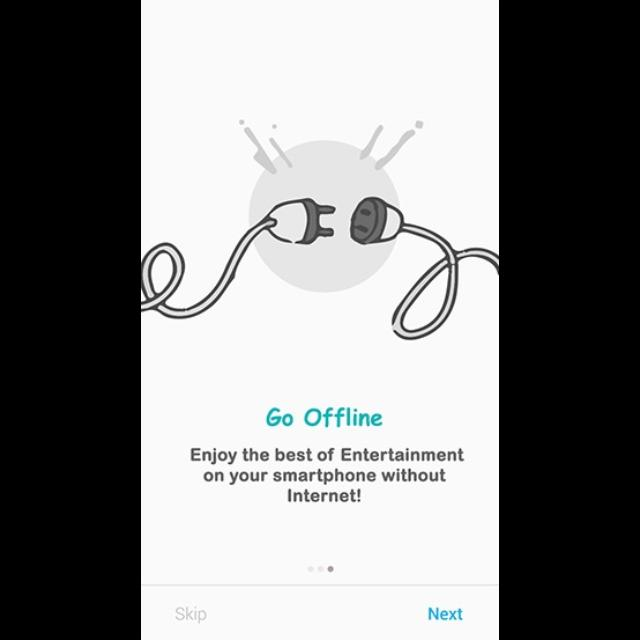image: (142, 120, 500, 342)
pageindicator: (308, 565, 336, 573)
text: (190, 447, 466, 503), (266, 408, 384, 428), (176, 606, 208, 624), (430, 606, 464, 622)
